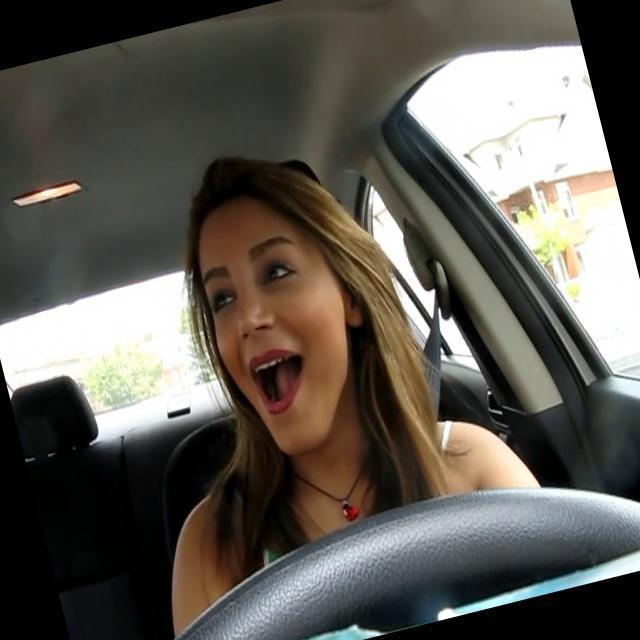open-mouth: (248, 350, 306, 415)
